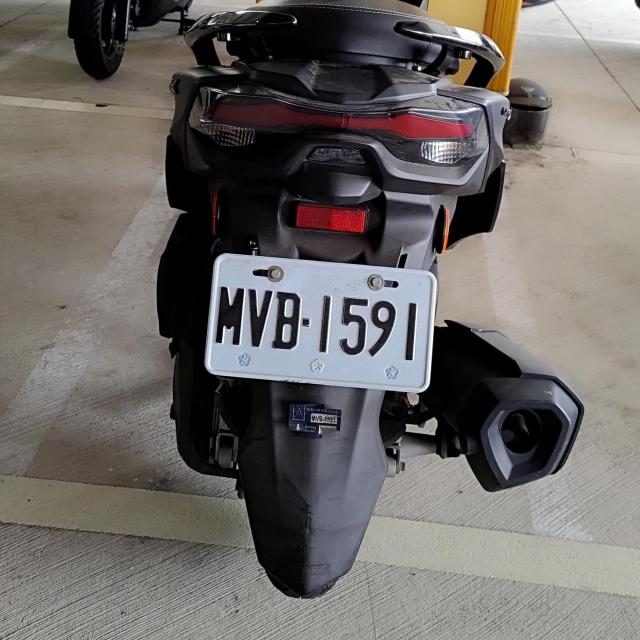W: (202, 253, 438, 391)
